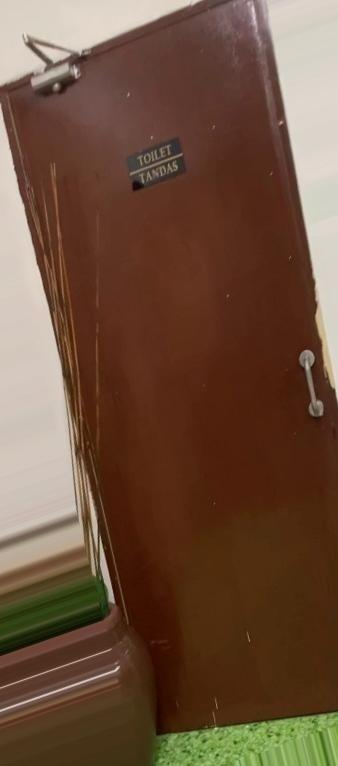door: (18, 2, 338, 763)
